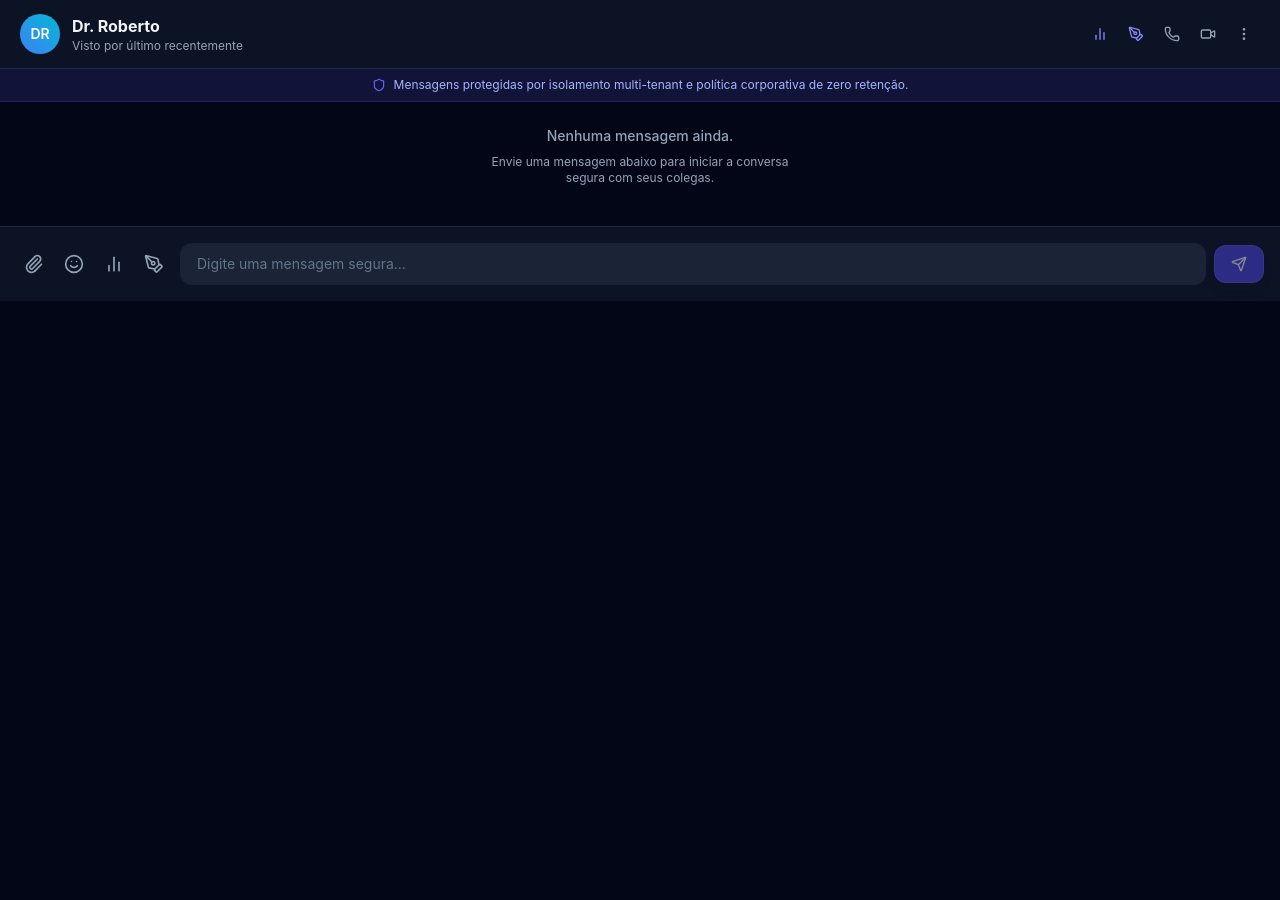
Test: Electronic Signatures Frontend (T-34) › 5. Chat Integration (MessageBubble & ChatPanel) › renders signature button in ChatPanel header and composer for initiating signatures
The image size is (1280, 900).
Click the button titled "Solicitar Assinatura Eletrônica (Enterprise)". click: (1136, 34)
box: [1120, 18, 1152, 50]
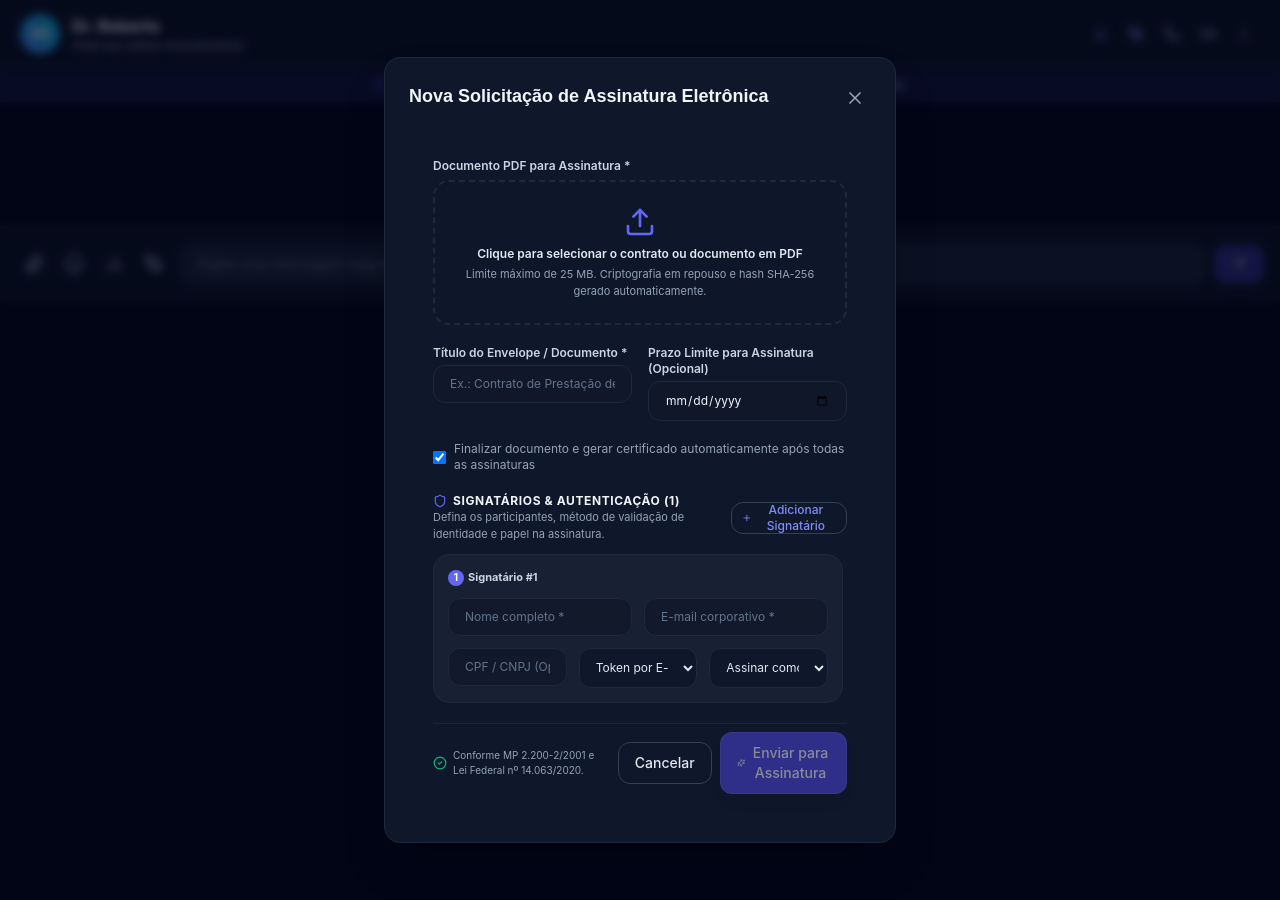
Check: the heading "Nova Solicitação de Assinatura Eletrônica" is shown, box [409, 82, 768, 110]
